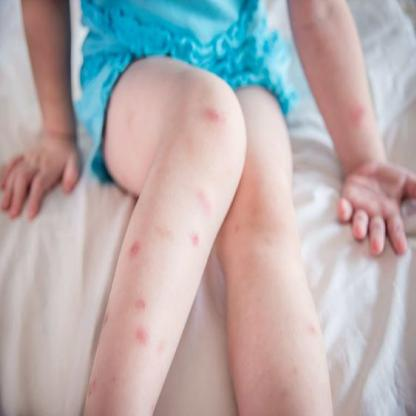Bed Bug: (201, 96, 228, 134), (345, 96, 367, 131), (270, 379, 302, 400), (310, 35, 334, 56), (125, 237, 145, 262), (297, 12, 321, 32), (131, 322, 149, 346), (196, 189, 213, 214), (326, 0, 341, 26), (303, 314, 318, 339), (153, 221, 173, 239), (189, 227, 203, 250), (132, 294, 154, 308), (122, 106, 136, 128), (86, 378, 98, 398), (287, 358, 300, 376), (156, 331, 165, 355), (233, 221, 244, 238), (102, 312, 112, 330)
